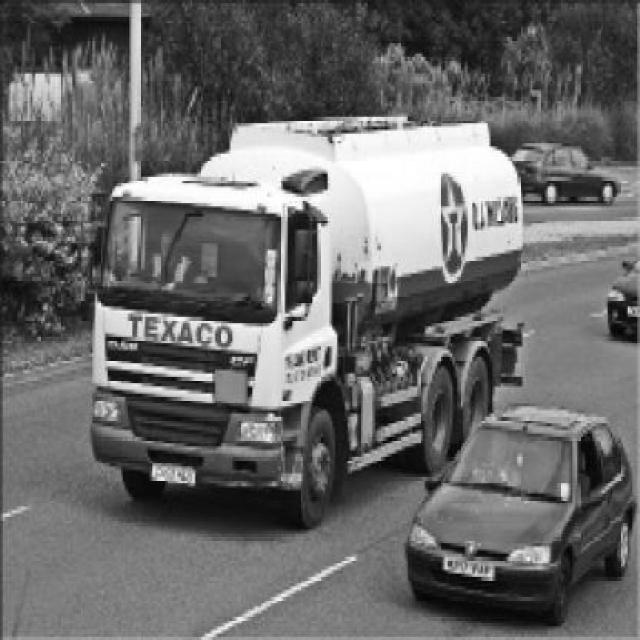Hatchback: (404, 407, 635, 627)
Truck- Multi-Axle: (88, 119, 525, 530)
